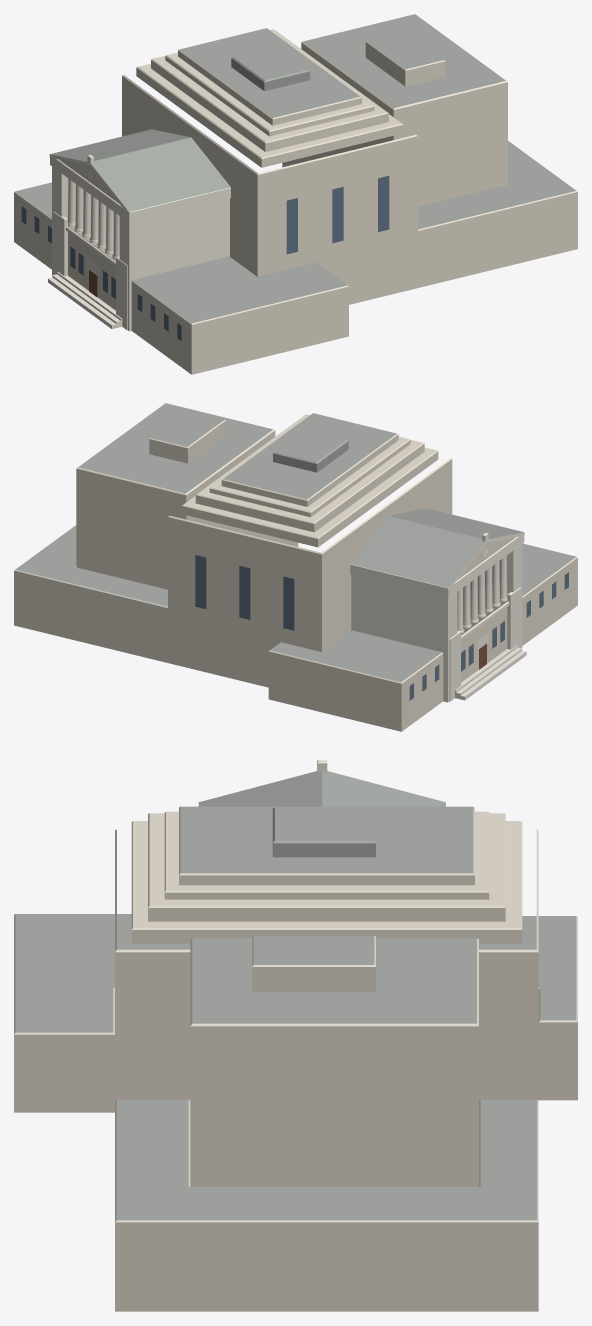
File: sat-scottish-rite-cathedral.glb
3 renders of one model, top to bottom at view 1: azimuth 30°, elevation 25°; view 2: azimuth 150°, elevation 25°; view 3: azimuth 270°, elevation 25°, orthographic. The views are drawn at different scales.
Visible parts, largest first — view 1: Scottish Rite Cathedral; view 2: Scottish Rite Cathedral; view 3: Scottish Rite Cathedral.
Part boxes in pixels (bbox=[...]): Scottish Rite Cathedral: bbox=[14, 14, 577, 374]; Scottish Rite Cathedral: bbox=[14, 403, 577, 731]; Scottish Rite Cathedral: bbox=[14, 760, 577, 1311].
Size of the model in its own units: 75.5 by 32.6 by 54.7.
